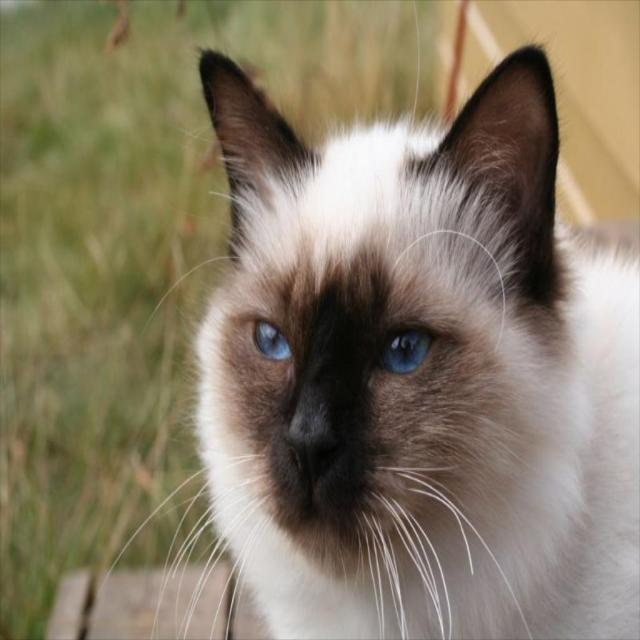Cat: (95, 0, 640, 639)
